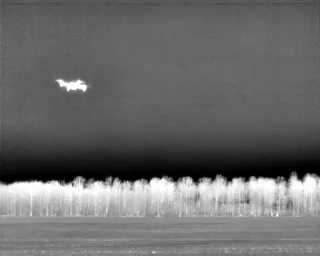DRONE: (51, 73, 93, 97)
